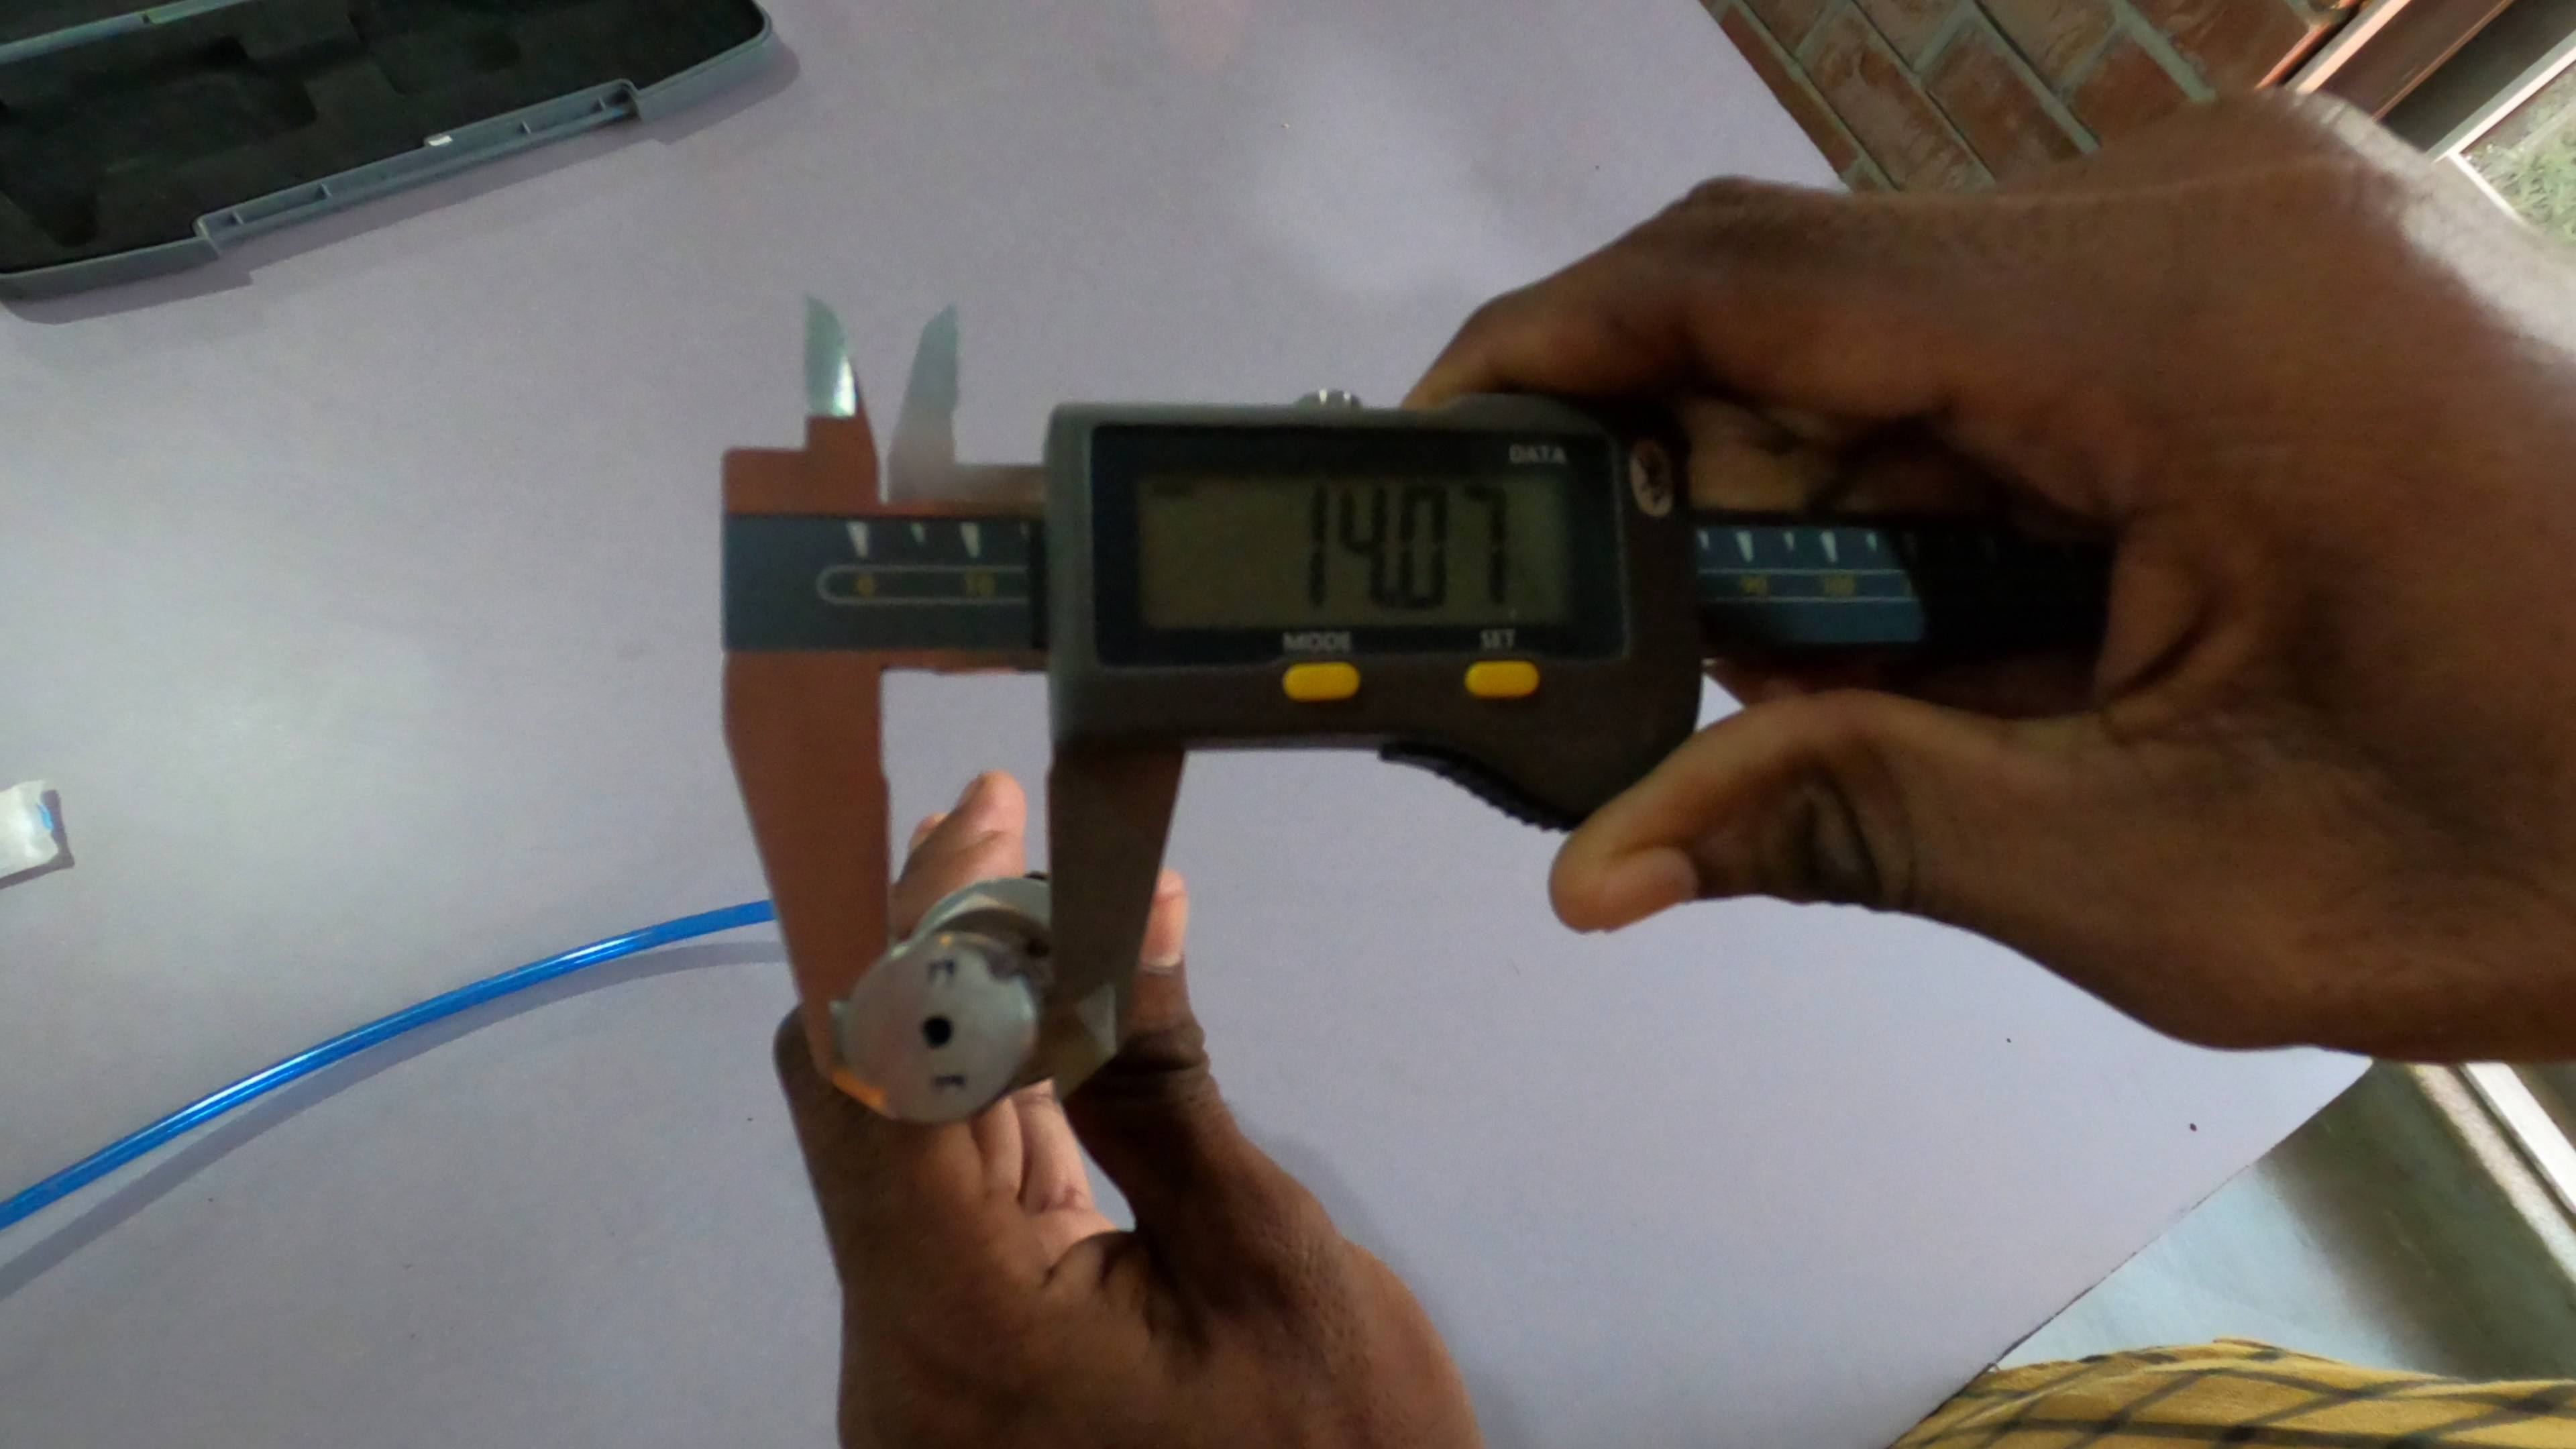vernier_caliper: (722, 297, 2082, 1136)
